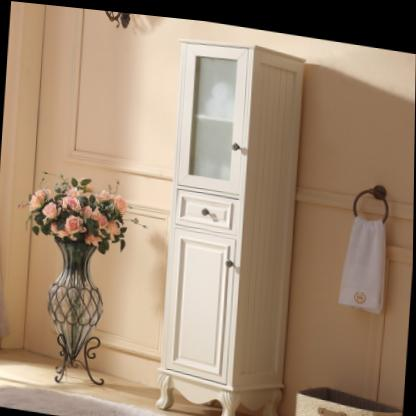Cupboard: (159, 34, 304, 416)
